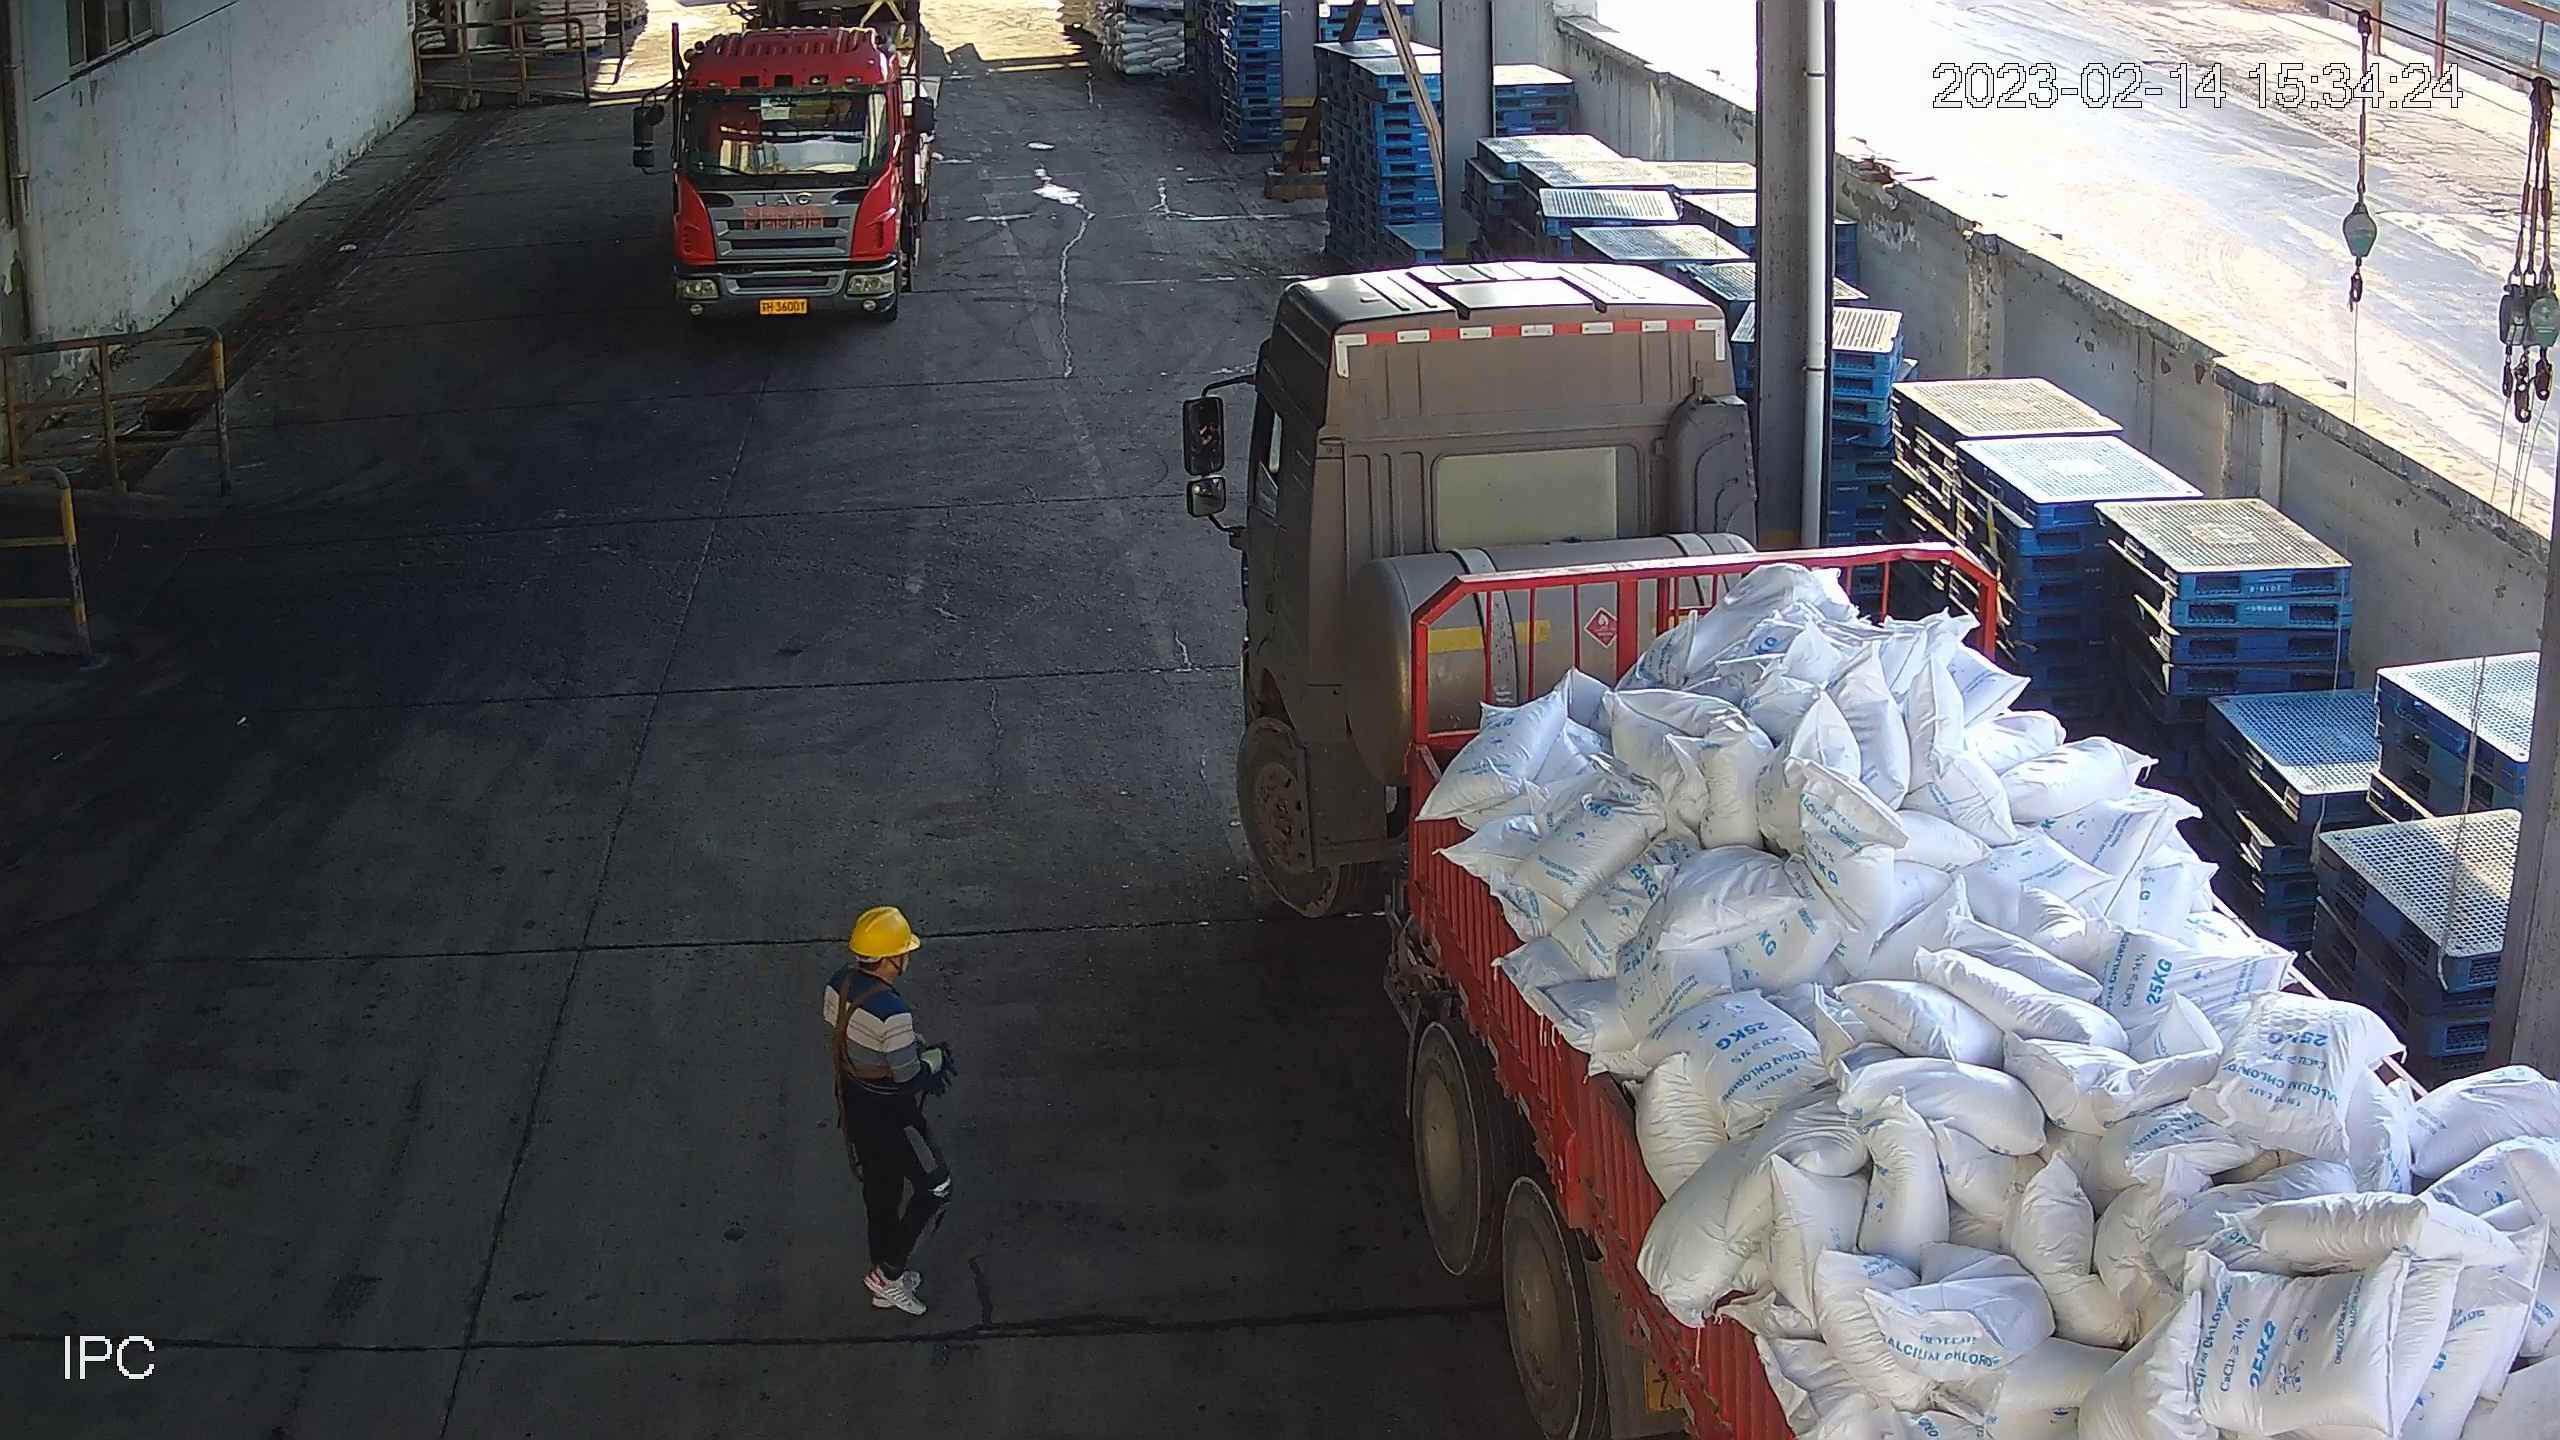head: (822, 905, 931, 1027)
helmet: (849, 904, 922, 958)
people: (820, 902, 965, 1317)
truck: (1221, 255, 2560, 1440), (659, 1, 952, 329)
